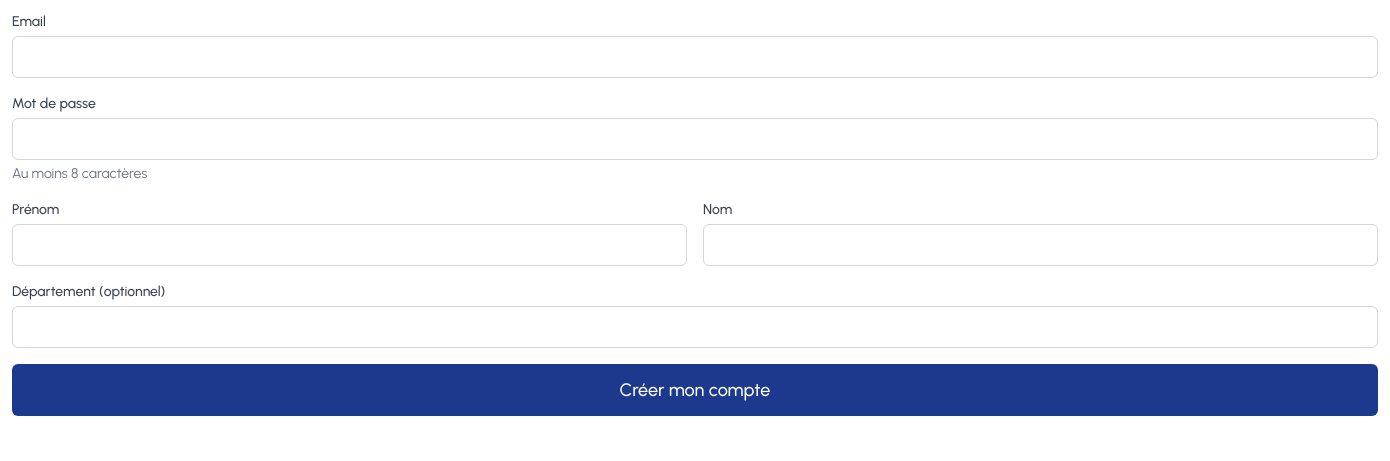
Test: RegisterForm › valide le format de l'email
The image size is (1390, 461).
Step 1. Type "pas-un-email" into the field labelled "Email" → (695, 57), box 12,36 -> 1378,78
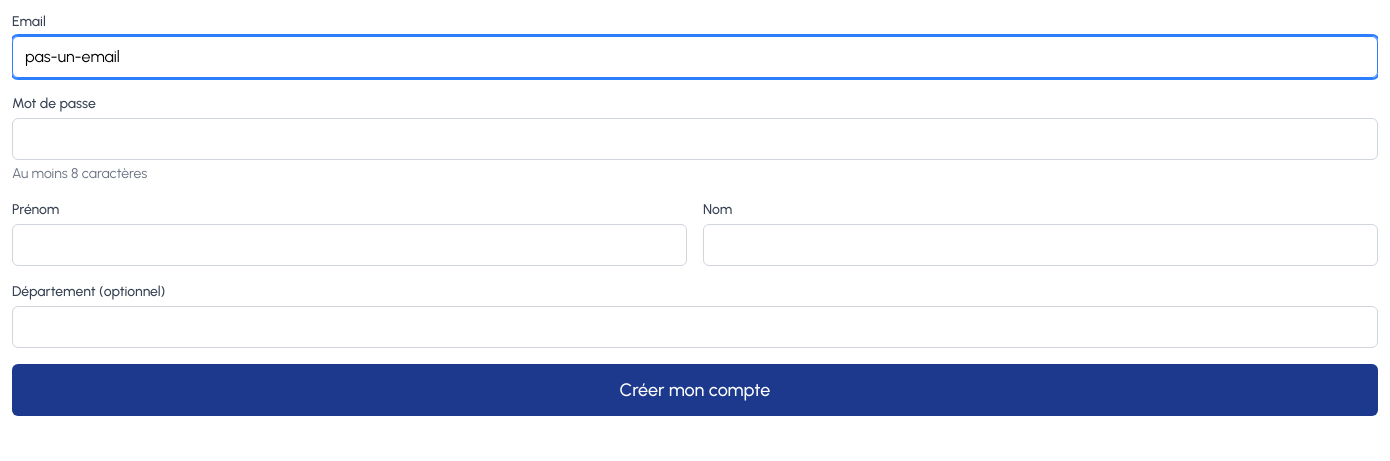
Step 2. Type "password123" into the password field labelled "Mot de passe" → (695, 139), box 12,118 -> 1378,160
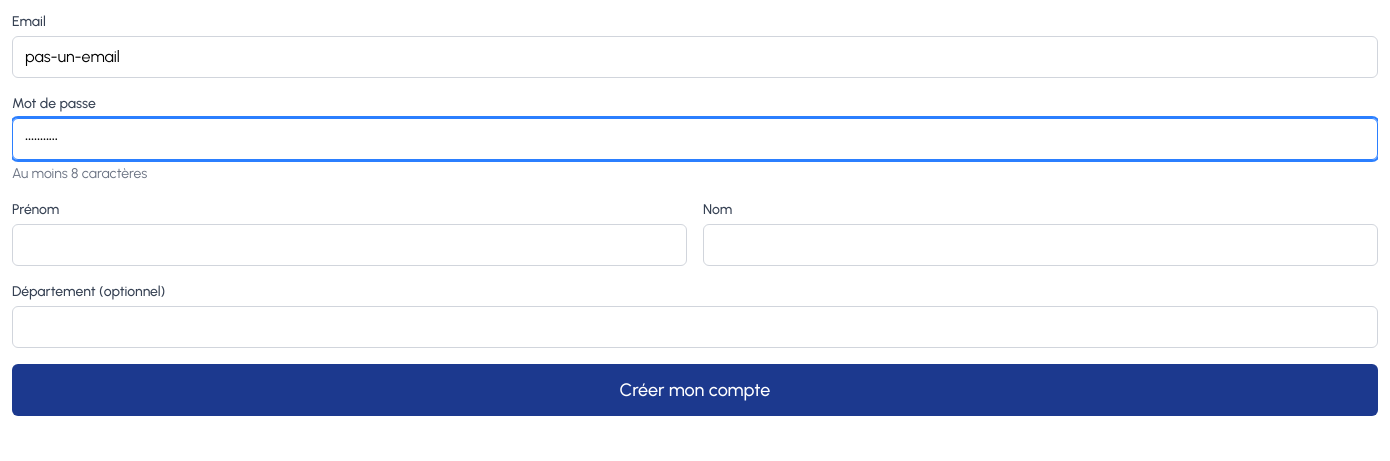
Step 3. Type "Rainsong" into the field labelled "Prénom" → (350, 245), box 12,224 -> 687,266
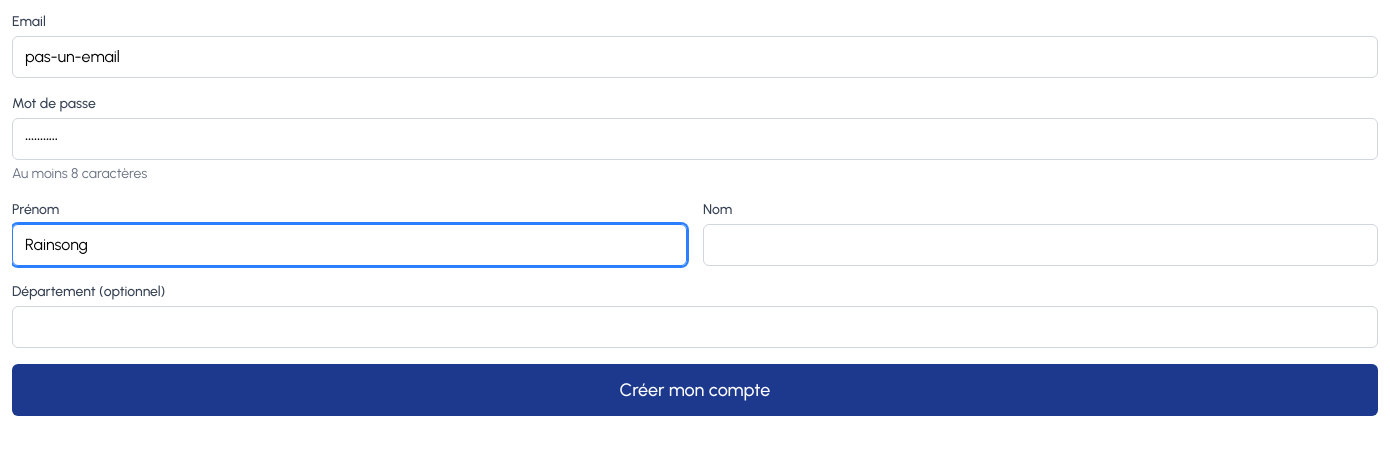
Step 4. Type "Ngoutsop" into the field labelled "Nom" → (1040, 245), box 703,224 -> 1378,266
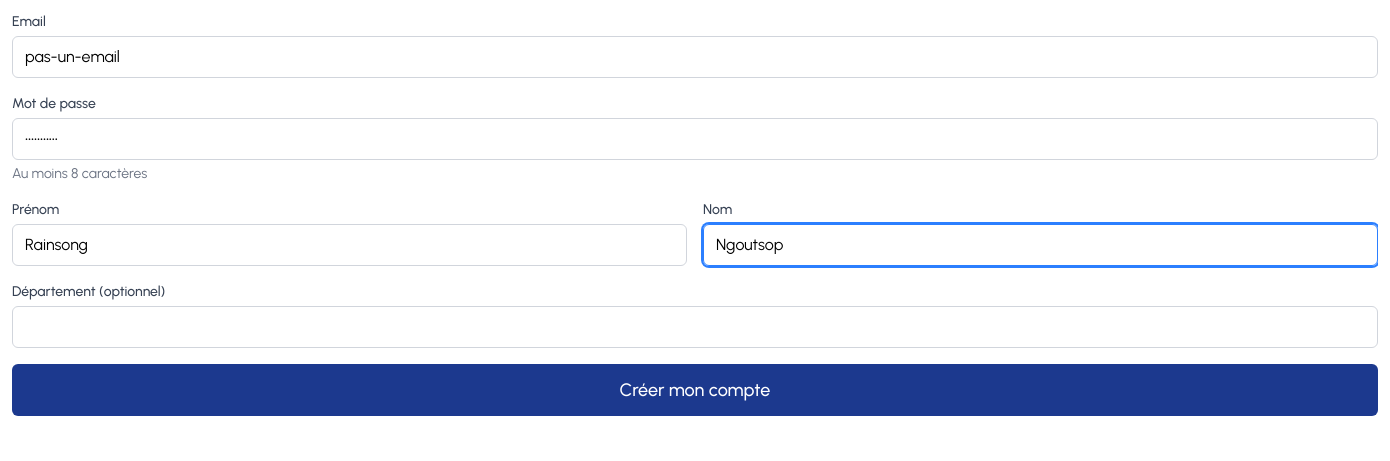
Step 5. Click the button "Créer mon compte" → (695, 390), box 12,364 -> 1378,416
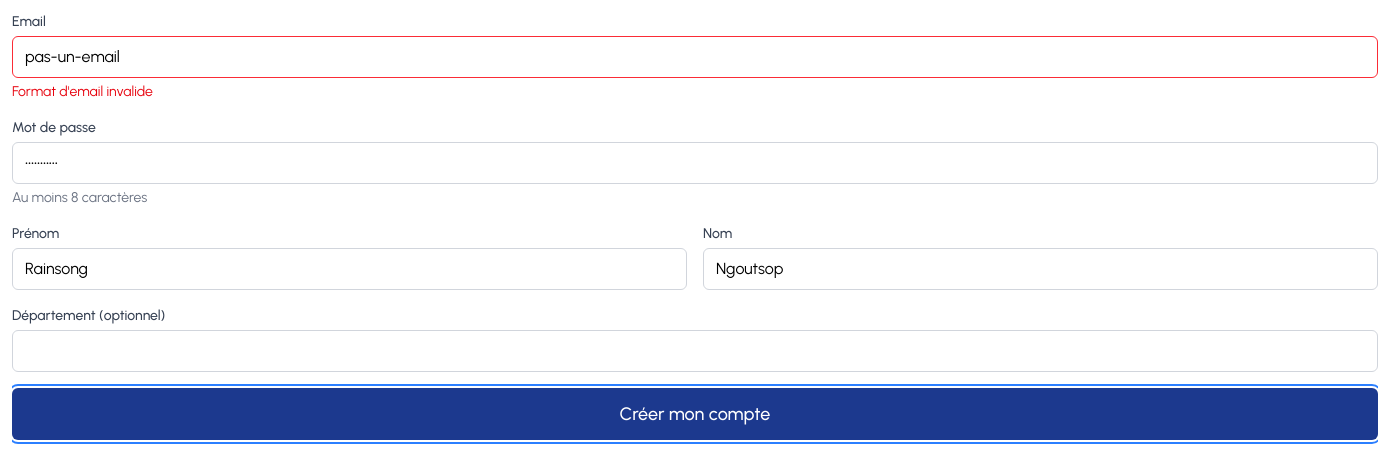
Expected: the text "Format d'email invalide" is shown, 12,83 -> 153,100
